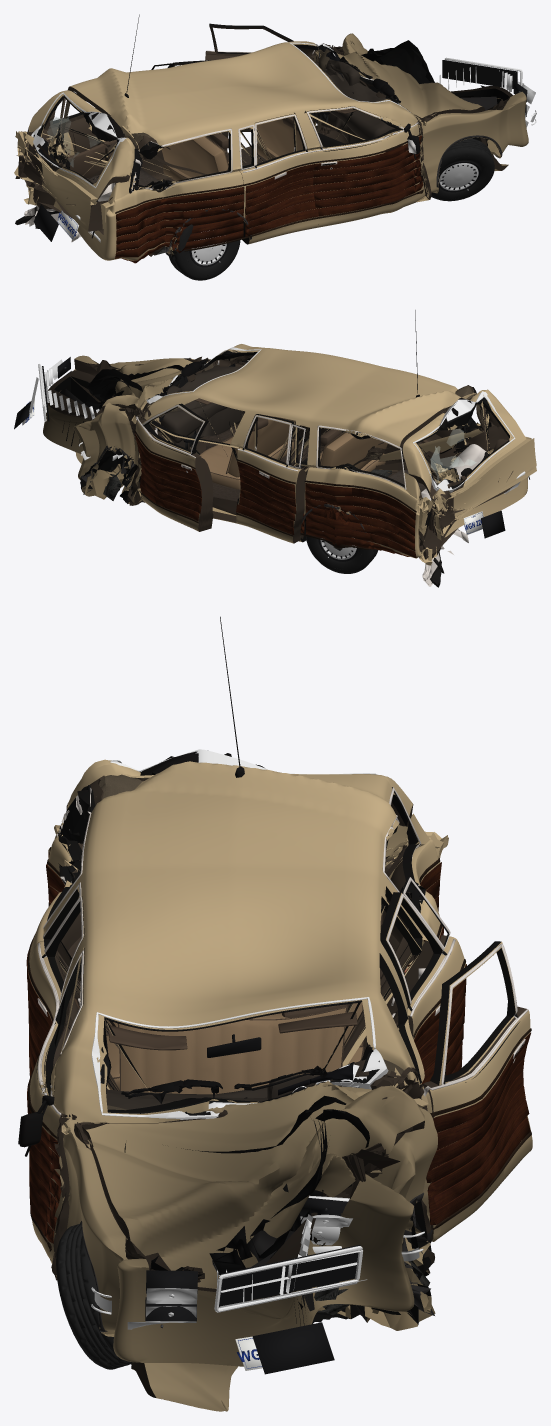
The model's file is wagon82_front_corner_d3_lod1.glb.
The picture shows the model from 3 angles, top to bottom: view 1: azimuth 30°, elevation 25°; view 2: azimuth 150°, elevation 25°; view 3: azimuth 270°, elevation 25°; orthographic projection. The views are drawn at different scales.
Parts seen in each view (by area): view 1: Body, Trim, Interior, Tailgate, Trim_FR, Hood, Trim_RR, Door_FR, Ends, Wheel_FR_mesh, Door_RR, Wheel_RR_mesh (+4 smaller); view 2: Body, Trim, Tailgate, Interior, Trim_FL, Trim_RL, Hood, Door_FL, Ends, Door_RL, Glass_Tailgate, Wheel_RL_mesh (+4 smaller); view 3: Body, Hood, Interior, Ends, Trim_FL, Door_FL, Glass, Trim, Trim_FR, Wheel_FR_mesh, Trim_RL, Door_RL (+5 smaller).
Part boxes in pixels (x1=…): Body: x1=15, y1=39, x2=528, y2=260; Trim: x1=52, y1=14, x2=502, y2=263; Interior: x1=67, y1=51, x2=395, y2=186; Tailgate: x1=14, y1=90, x2=135, y2=231; Trim_FR: x1=307, y1=106, x2=423, y2=218; Hood: x1=333, y1=33, x2=508, y2=170; Trim_RR: x1=238, y1=114, x2=318, y2=236; Door_FR: x1=306, y1=106, x2=430, y2=226; Ends: x1=33, y1=57, x2=536, y2=242; Wheel_FR_mesh: x1=431, y1=138, x2=494, y2=201; Door_RR: x1=239, y1=113, x2=318, y2=243; Wheel_RR_mesh: x1=168, y1=215, x2=240, y2=280; Body: x1=43, y1=344, x2=531, y2=565; Trim: x1=81, y1=310, x2=468, y2=557; Tailgate: x1=402, y1=389, x2=536, y2=540; Interior: x1=155, y1=363, x2=442, y2=493; Trim_FL: x1=134, y1=405, x2=204, y2=523; Trim_RL: x1=236, y1=415, x2=305, y2=536; Hood: x1=75, y1=358, x2=209, y2=463; Door_FL: x1=135, y1=403, x2=213, y2=531; Ends: x1=14, y1=357, x2=529, y2=539; Door_RL: x1=236, y1=414, x2=306, y2=543; Glass_Tailgate: x1=413, y1=391, x2=515, y2=492; Wheel_RL_mesh: x1=305, y1=509, x2=378, y2=573; Body: x1=27, y1=761, x2=448, y2=1366; Hood: x1=79, y1=1081, x2=424, y2=1411; Interior: x1=104, y1=914, x2=382, y2=1109; Ends: x1=91, y1=1195, x2=424, y2=1374; Trim_FL: x1=423, y1=943, x2=531, y2=1229; Door_FL: x1=401, y1=941, x2=532, y2=1243; Glass: x1=58, y1=785, x2=422, y2=1119; Trim: x1=26, y1=616, x2=443, y2=1332; Trim_FR: x1=18, y1=950, x2=83, y2=1251; Wheel_FR_mesh: x1=56, y1=1223, x2=131, y2=1369; Trim_RL: x1=386, y1=877, x2=466, y2=1084; Door_RL: x1=380, y1=892, x2=465, y2=1039.
Size of the model in its own units: 4.77 by 2.29 by 2.23.
34 materials, 6 textured.
